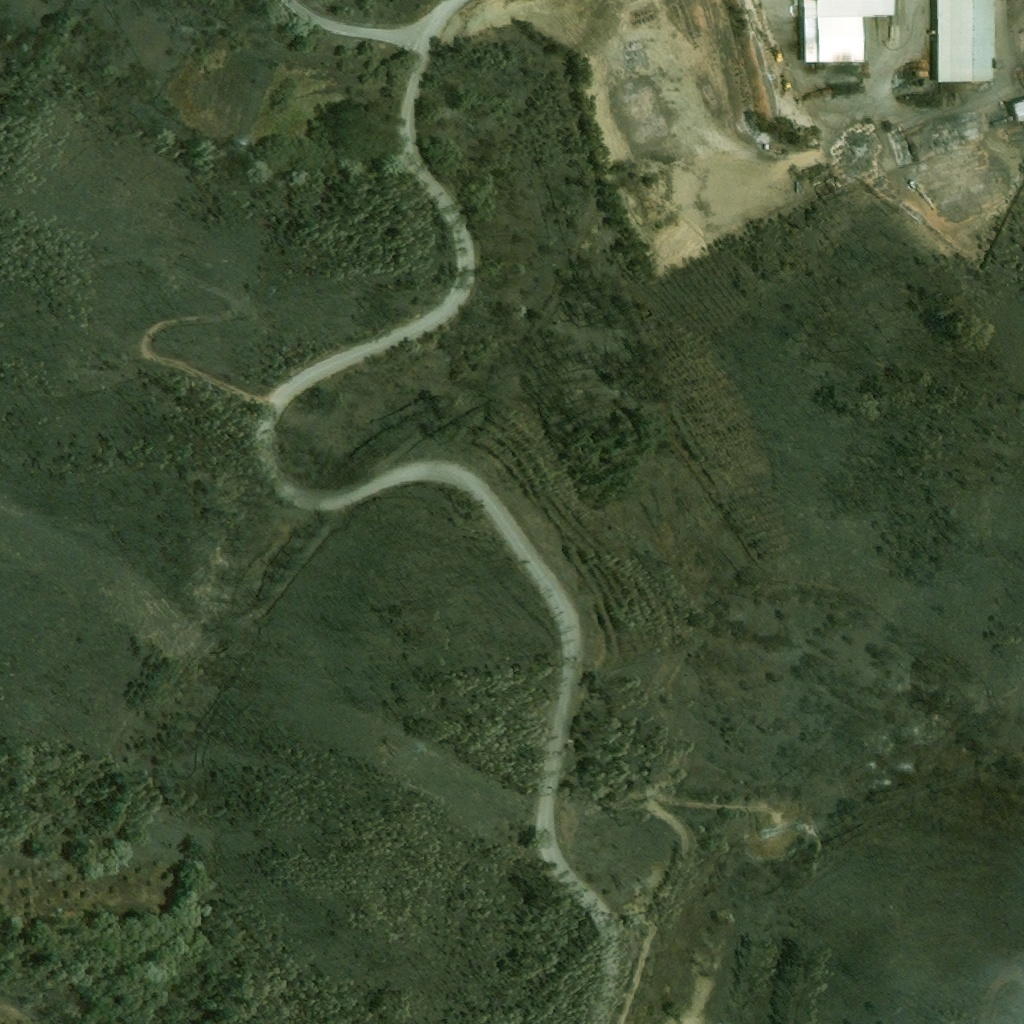0 no-damage: (797, 0, 895, 63), (931, 0, 1004, 82)
4 un-classified: (769, 88, 806, 114), (1013, 101, 1023, 123)
